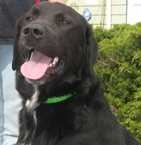dog: (4, 7, 132, 144)
